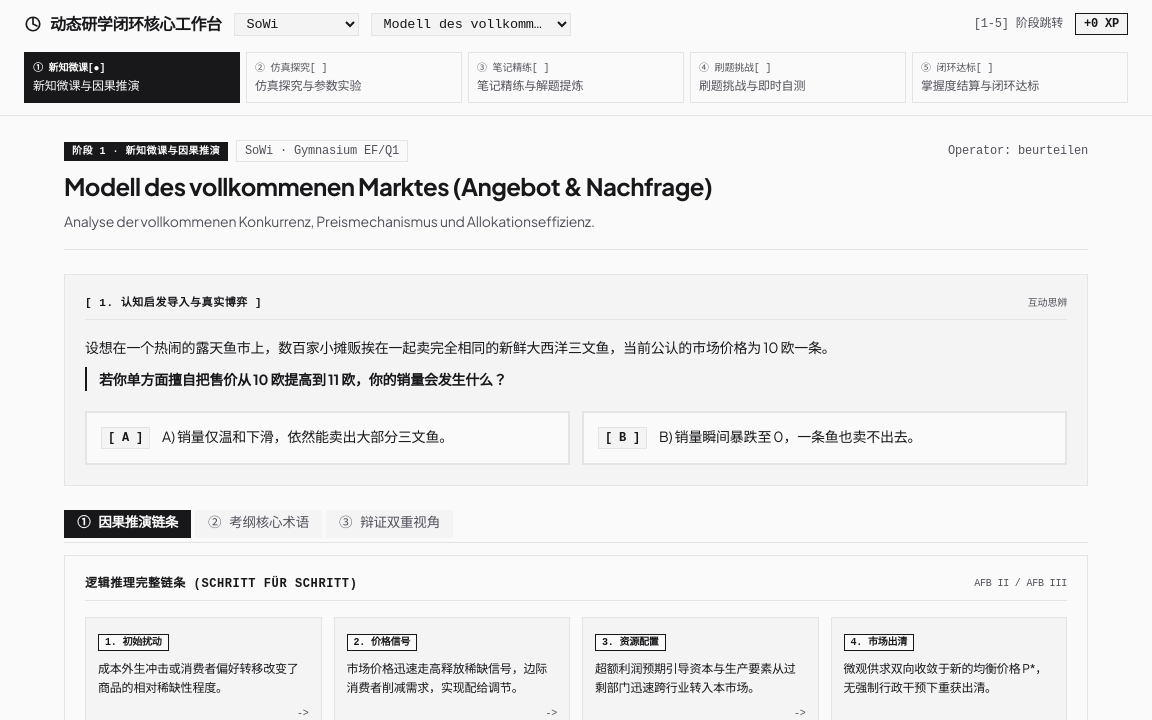
Test: ActiveLearningWorkshop Component › allows direct phase navigation via progress rail buttons
Note: 点击第 3 阶段轨按钮直接跳转
Step 1. Click the button "③ 笔记精练 [ ] 笔记精练与解题提炼" → (576, 78), box [468,52,684,103]
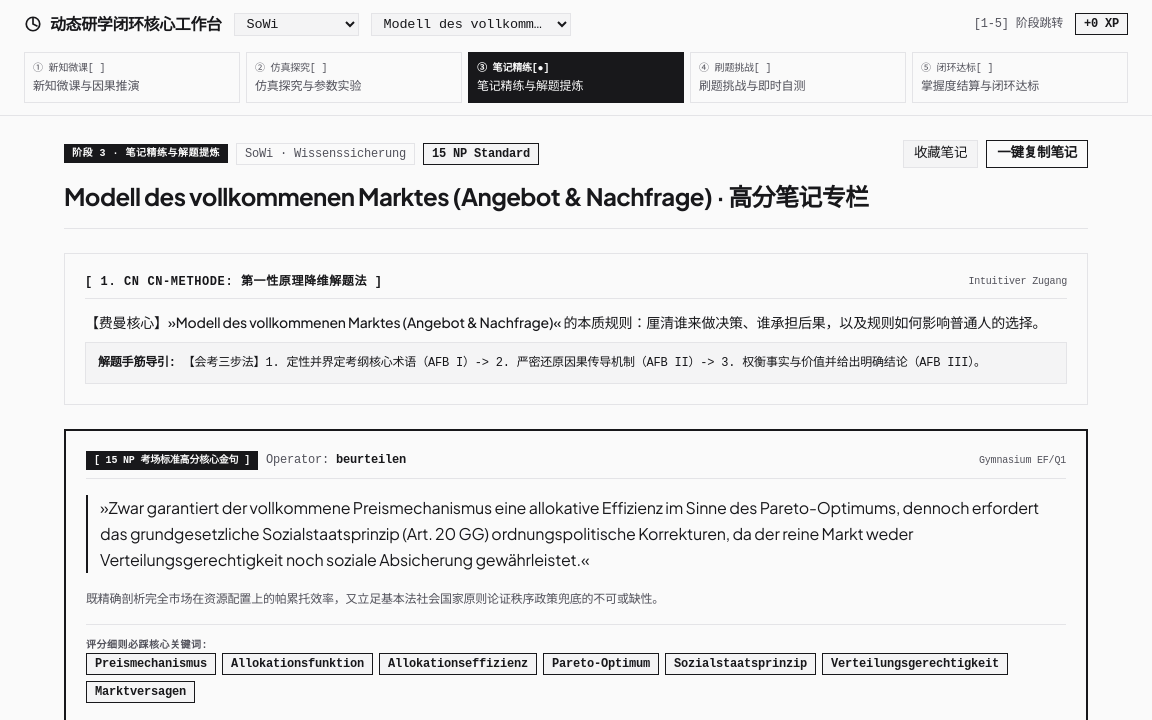
Check: the text "阶段 3 · 笔记精练与解题提炼" is shown, box [64,144,228,164]
Note: 点击第 5 阶段轨按钮直接查看结算
Step 2. Click the button "⑤ 闭环达标 [ ] 掌握度结算与闭环达标" → (1020, 78), box [912,52,1128,103]
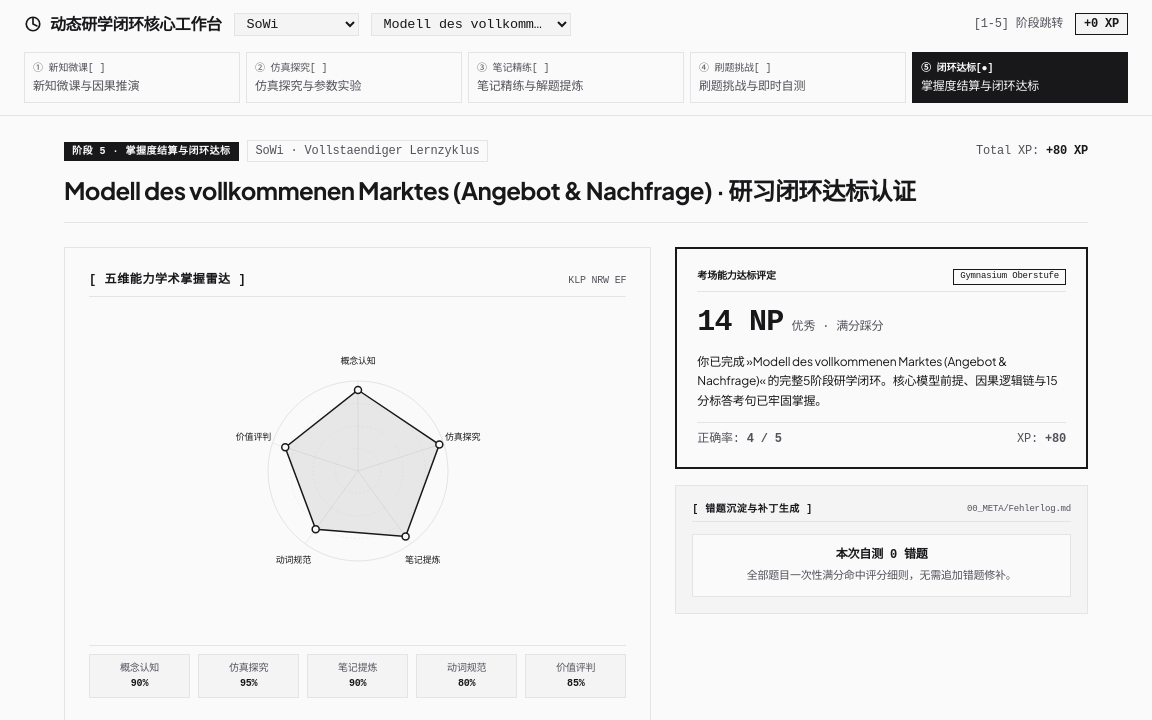
Check: the text "阶段 5 · 掌握度结算与闭环达标" is shown, box [64,142,238,160]
